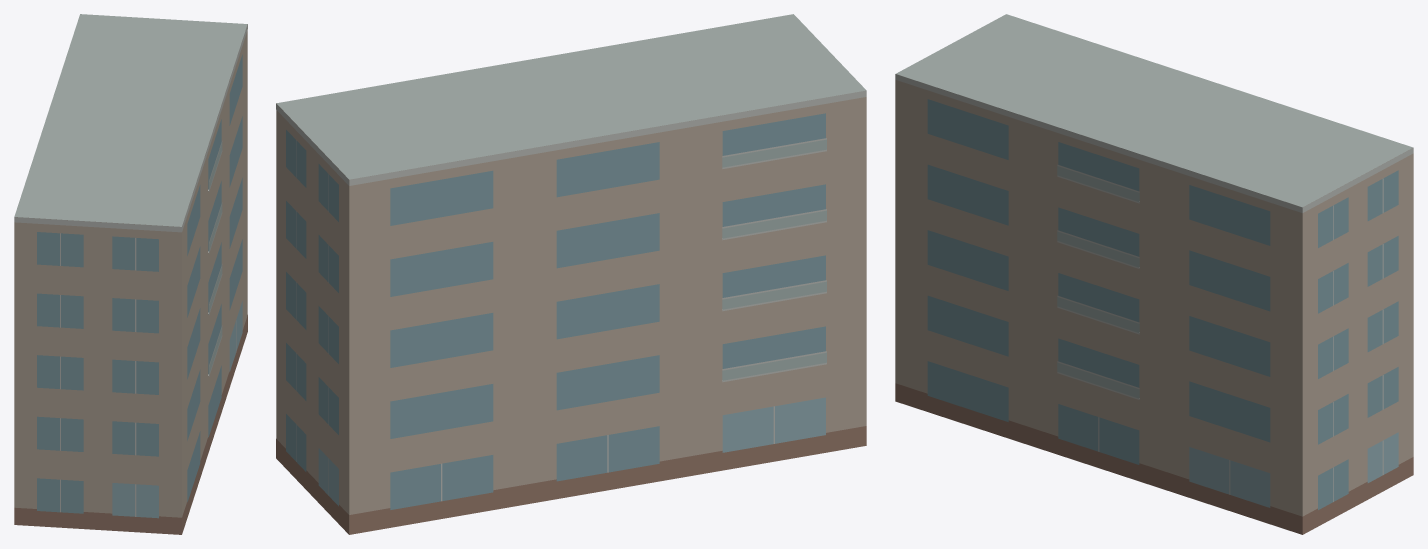
Rendered from survey-upis-32626730.glb.
The picture shows the model from 3 angles, left to right: view 1: azimuth 30°, elevation 25°; view 2: azimuth 150°, elevation 25°; view 3: azimuth 270°, elevation 25°; orthographic projection. The views are drawn at different scales.
Visible parts, largest first — view 1: survey-upis-32626730.tmp; view 2: survey-upis-32626730.tmp; view 3: survey-upis-32626730.tmp.
Boxes of the visible parts, bbox=[...] form: survey-upis-32626730.tmp: bbox=[14, 14, 247, 534]; survey-upis-32626730.tmp: bbox=[276, 14, 866, 534]; survey-upis-32626730.tmp: bbox=[895, 14, 1413, 534].
Bounding box in the file's own units: 17.36 × 13.7 × 19.65.
